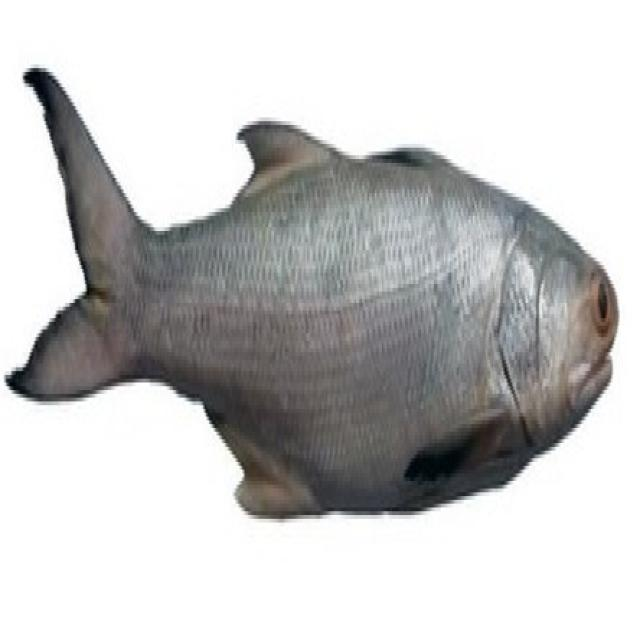Fourfinger-Threadfin: (3, 28, 640, 560)
